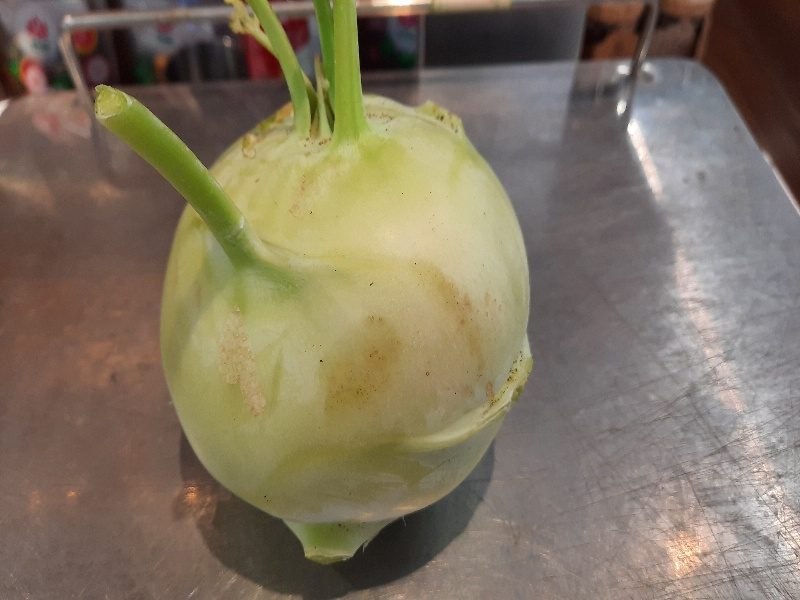vege: (88, 3, 535, 578)
